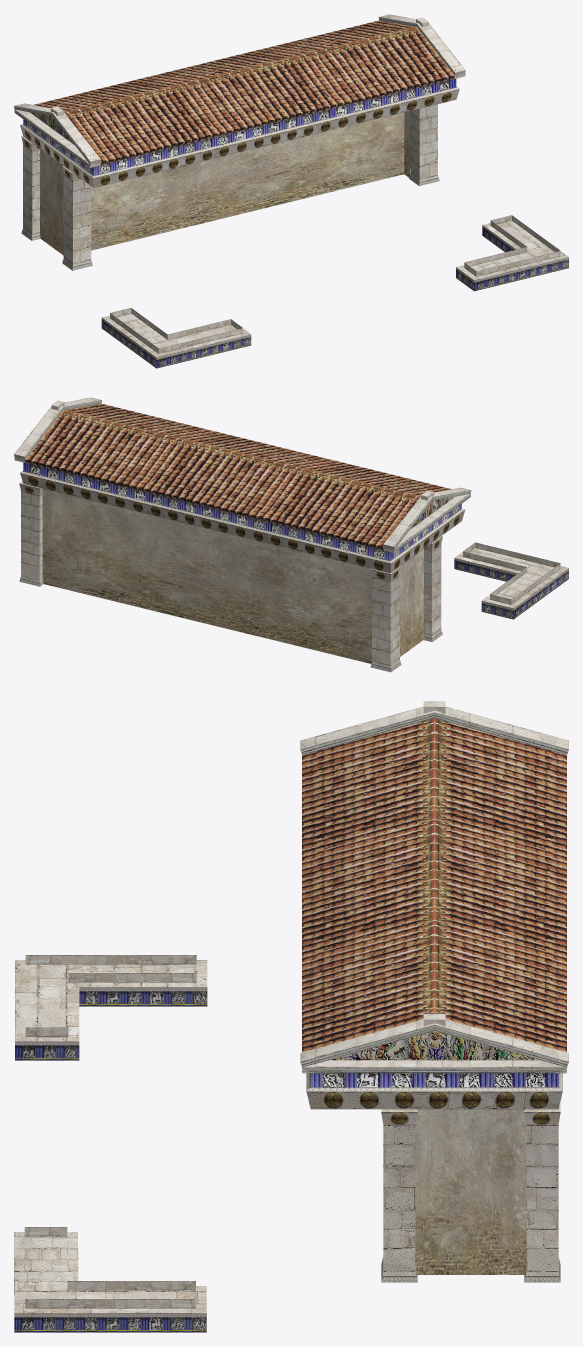
File: hele_stoa2_base.dae
3 renders of one model, top to bottom at view 1: azimuth 30°, elevation 25°; view 2: azimuth 150°, elevation 25°; view 3: azimuth 270°, elevation 25°, orthographic. The views are drawn at different scales.
Parts seen in each view (by area): view 1: Box06; view 2: Box06; view 3: Box06.
Part boxes in pixels (x1,y1,x2,y2): Box06: (14,14,568,368); Box06: (14,397,568,672); Box06: (14,701,568,1332).
Bounding box in the file's own units: 28.19 × 18.73 × 10.9.
